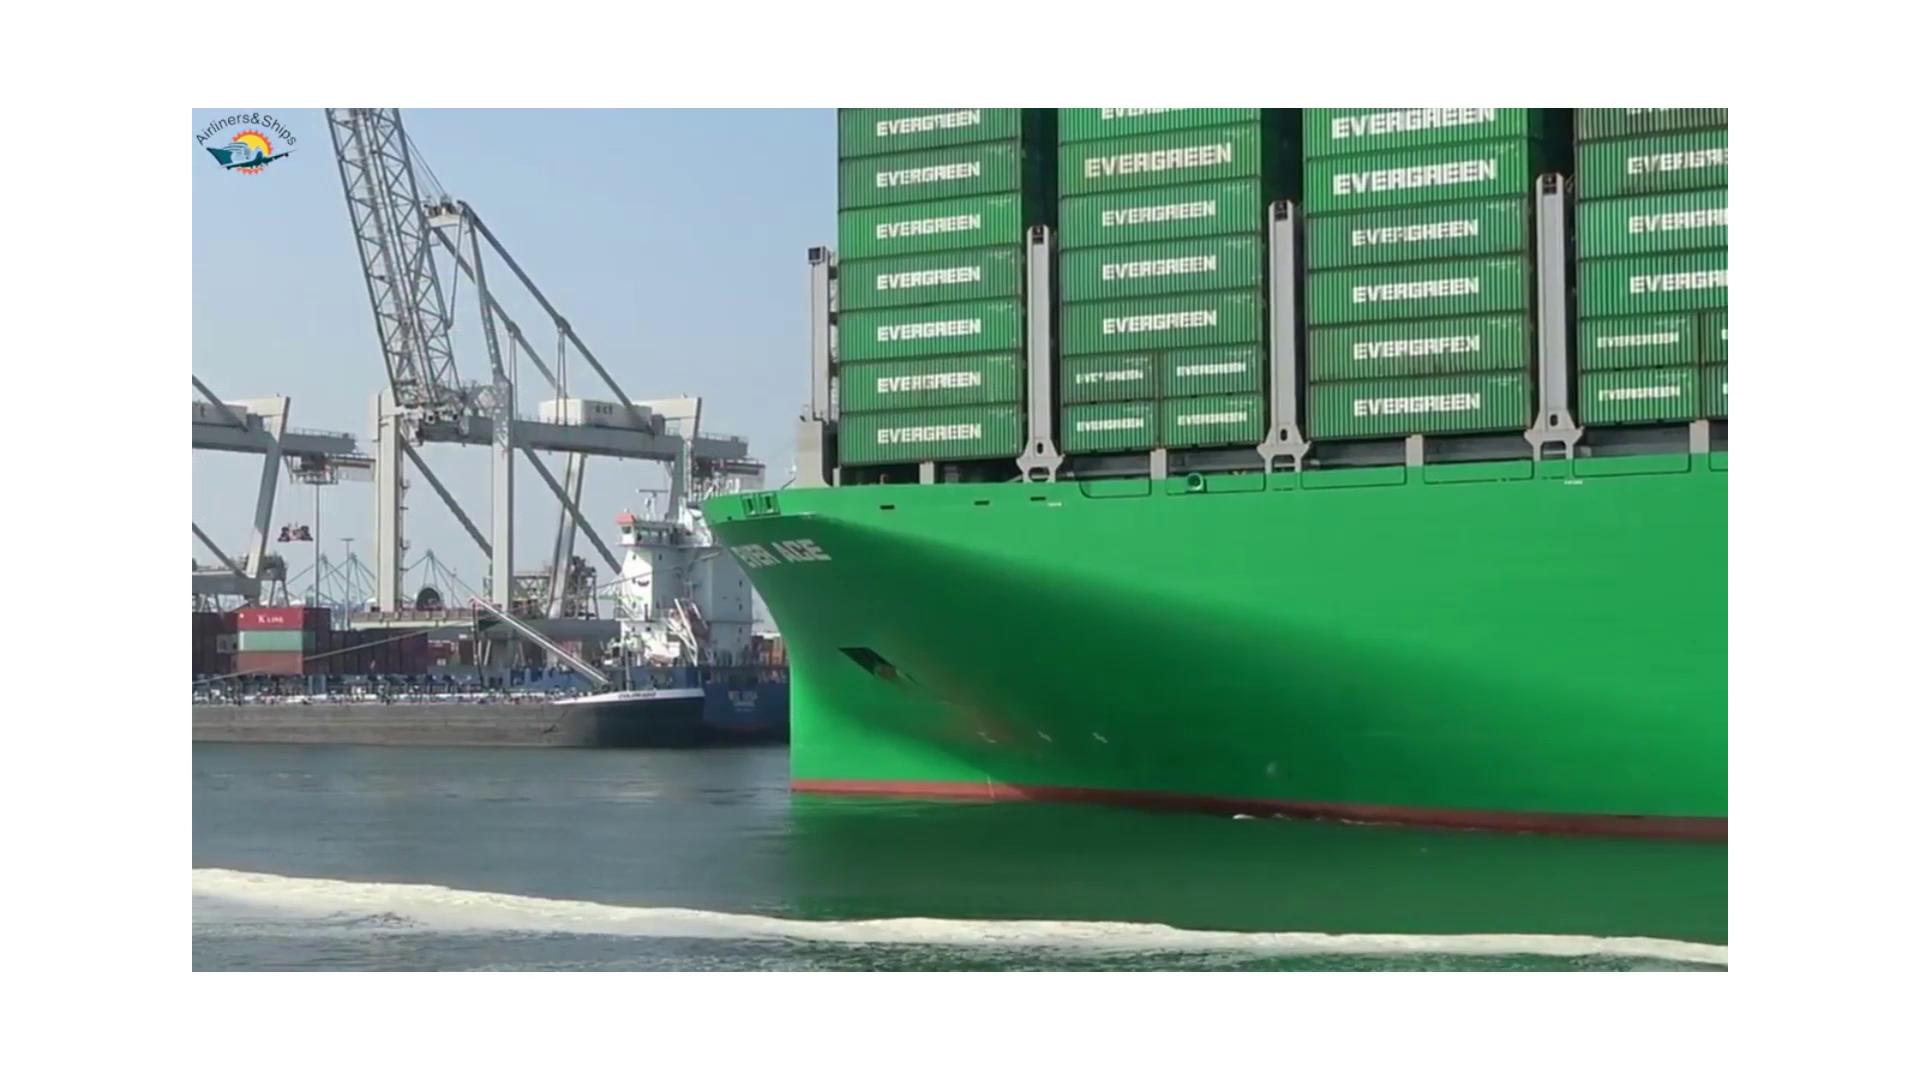OCR: (721, 526, 848, 588)
